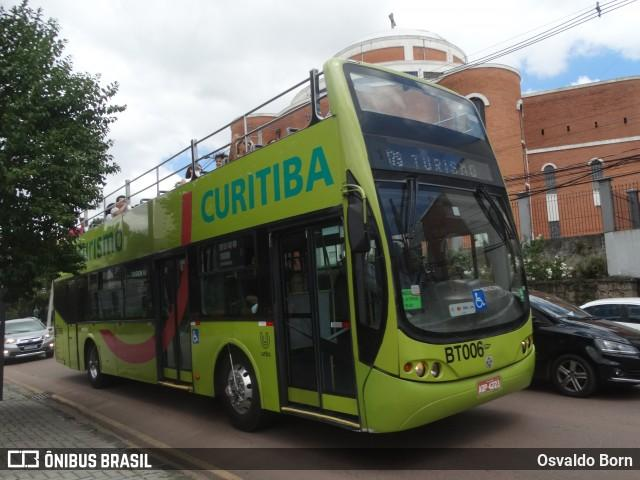TURISMO: (407, 149, 481, 183)
